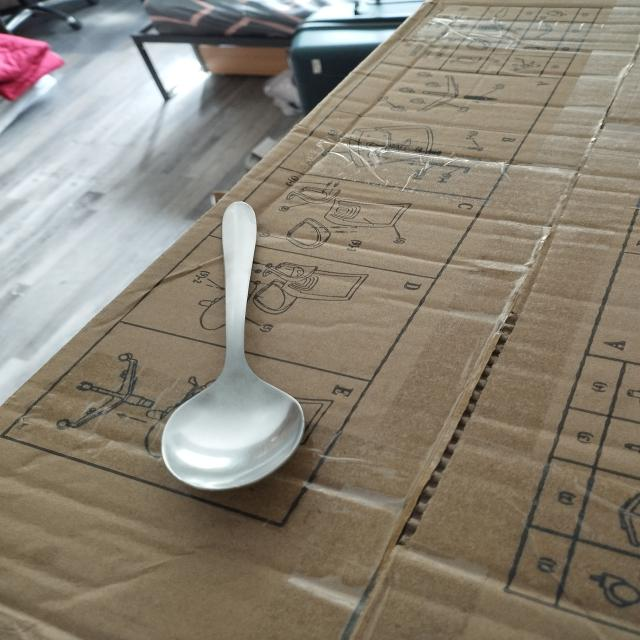Spoon: (128, 196, 330, 500)
